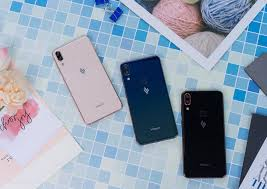vsmart: (51, 31, 121, 128), (118, 52, 178, 146), (178, 85, 228, 182)
